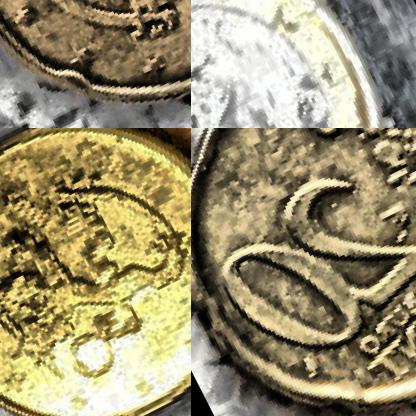coin: (191, 128, 415, 415), (0, 128, 190, 415), (191, 0, 415, 127), (0, 0, 190, 127)
